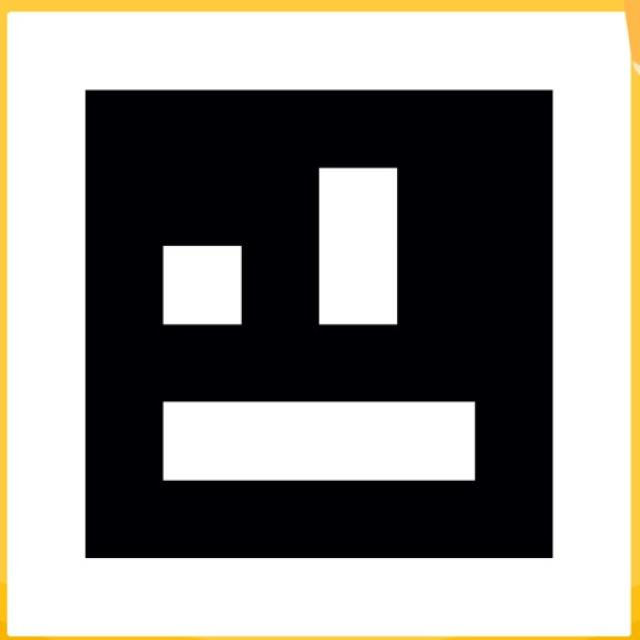aruco: (74, 78, 640, 581)
